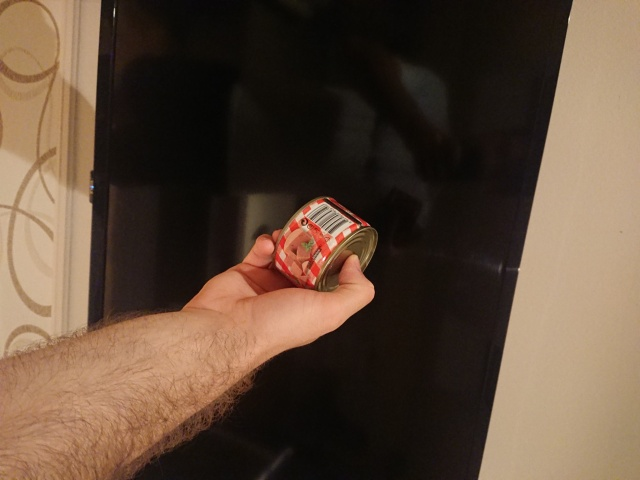Podravka Luncheon Meat 150g: (269, 192, 381, 300)
